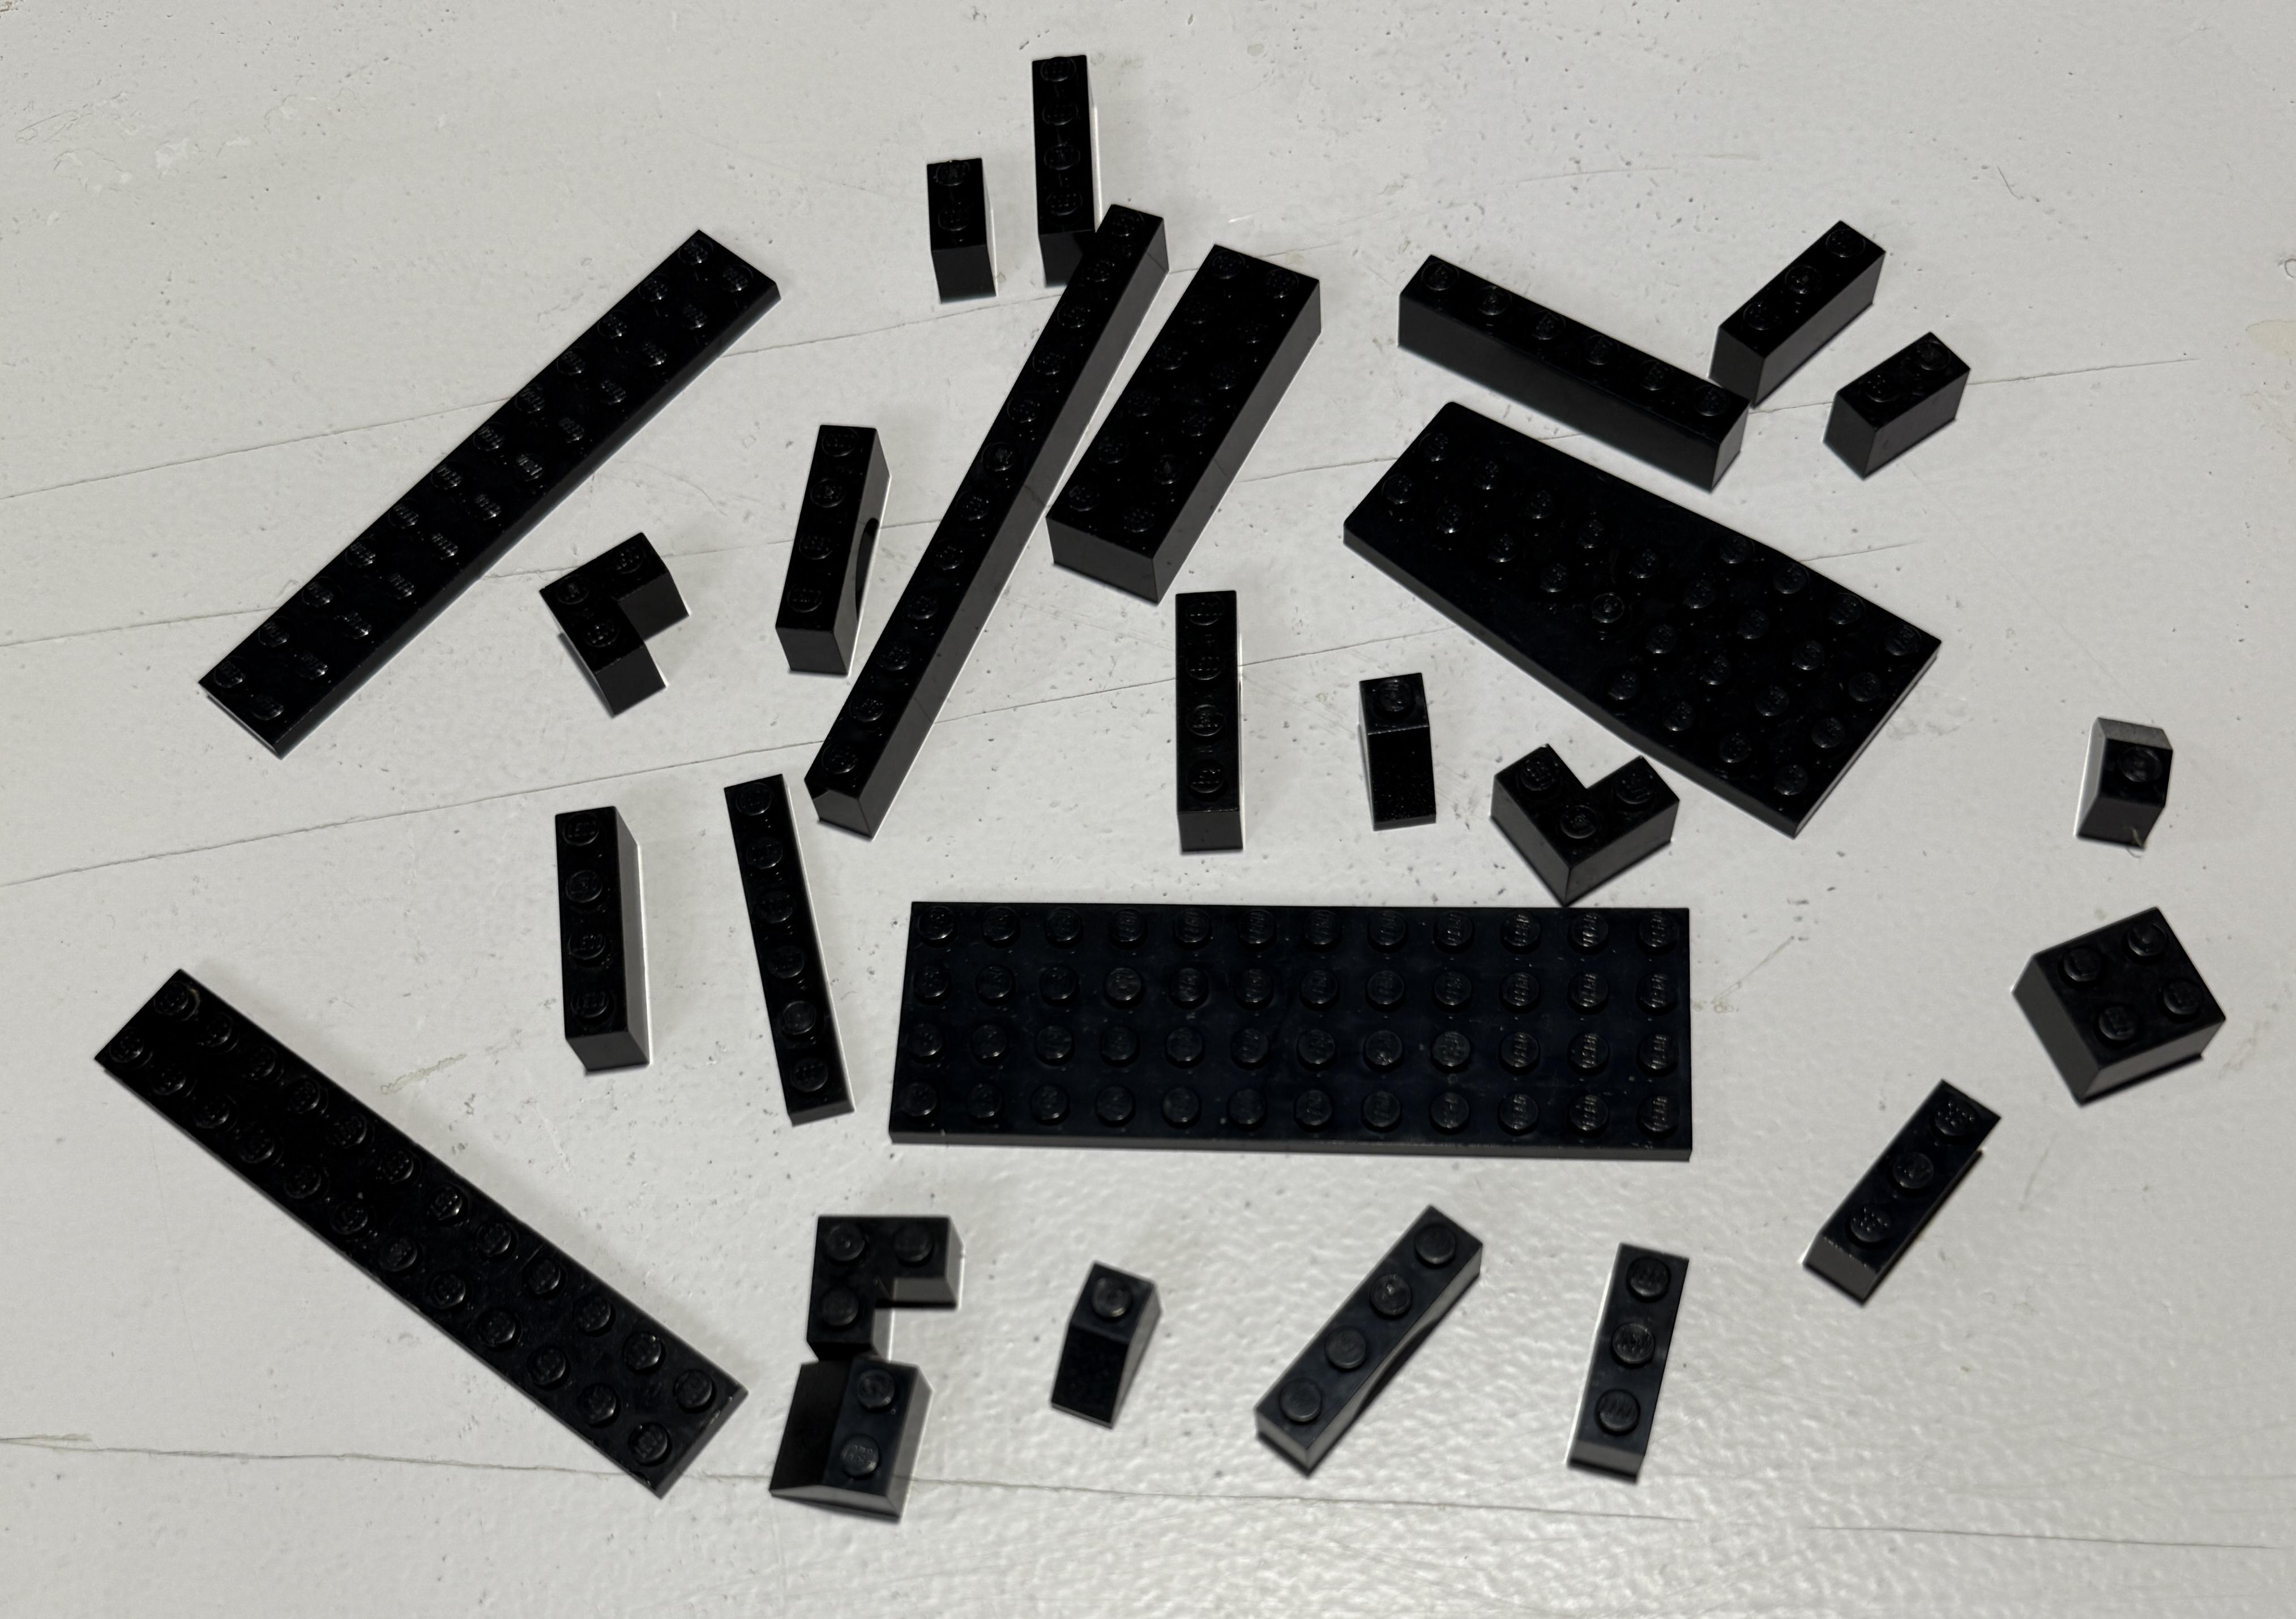brick_1x2: (878, 96, 1024, 338), (1818, 315, 1998, 489)
brick_1x4: (1155, 564, 1274, 876)
brick_2x2: (1991, 878, 2238, 1123)
